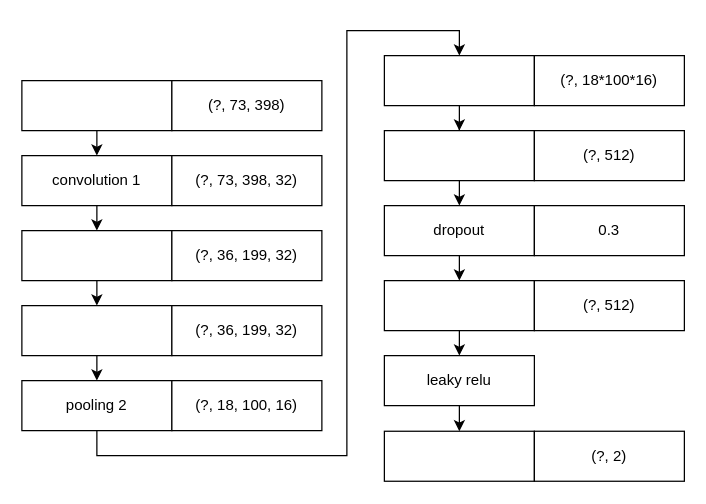
This 706x504 diagram has some shape labels left out. The box of each missing label's shape, as (x1, y1, x2, y2) in pixels:
batch normalization: (383, 279, 534, 331)
convolution 2: (21, 304, 172, 356)
flatten: (383, 54, 534, 106)
Input: (21, 79, 172, 131)
LSTM: (383, 129, 534, 181)
output: (383, 430, 534, 481)
pooling 1: (21, 229, 172, 281)
